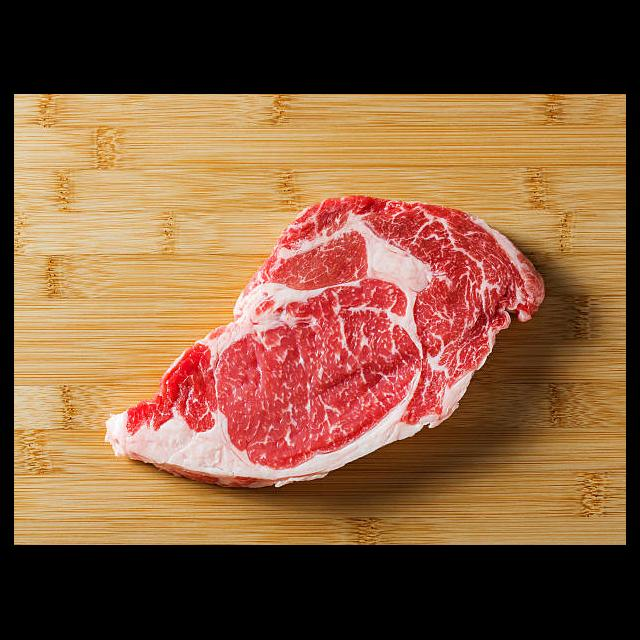beef: (104, 195, 544, 492)
